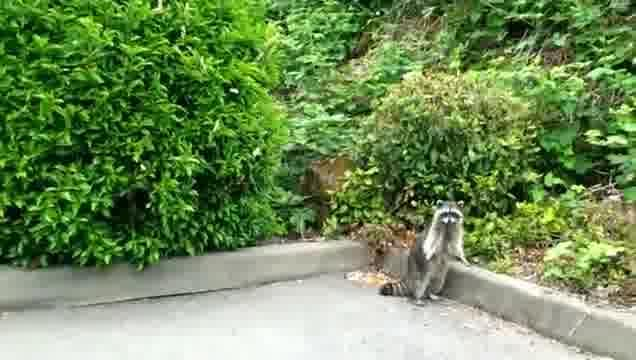raccoon: (374, 197, 478, 308)
